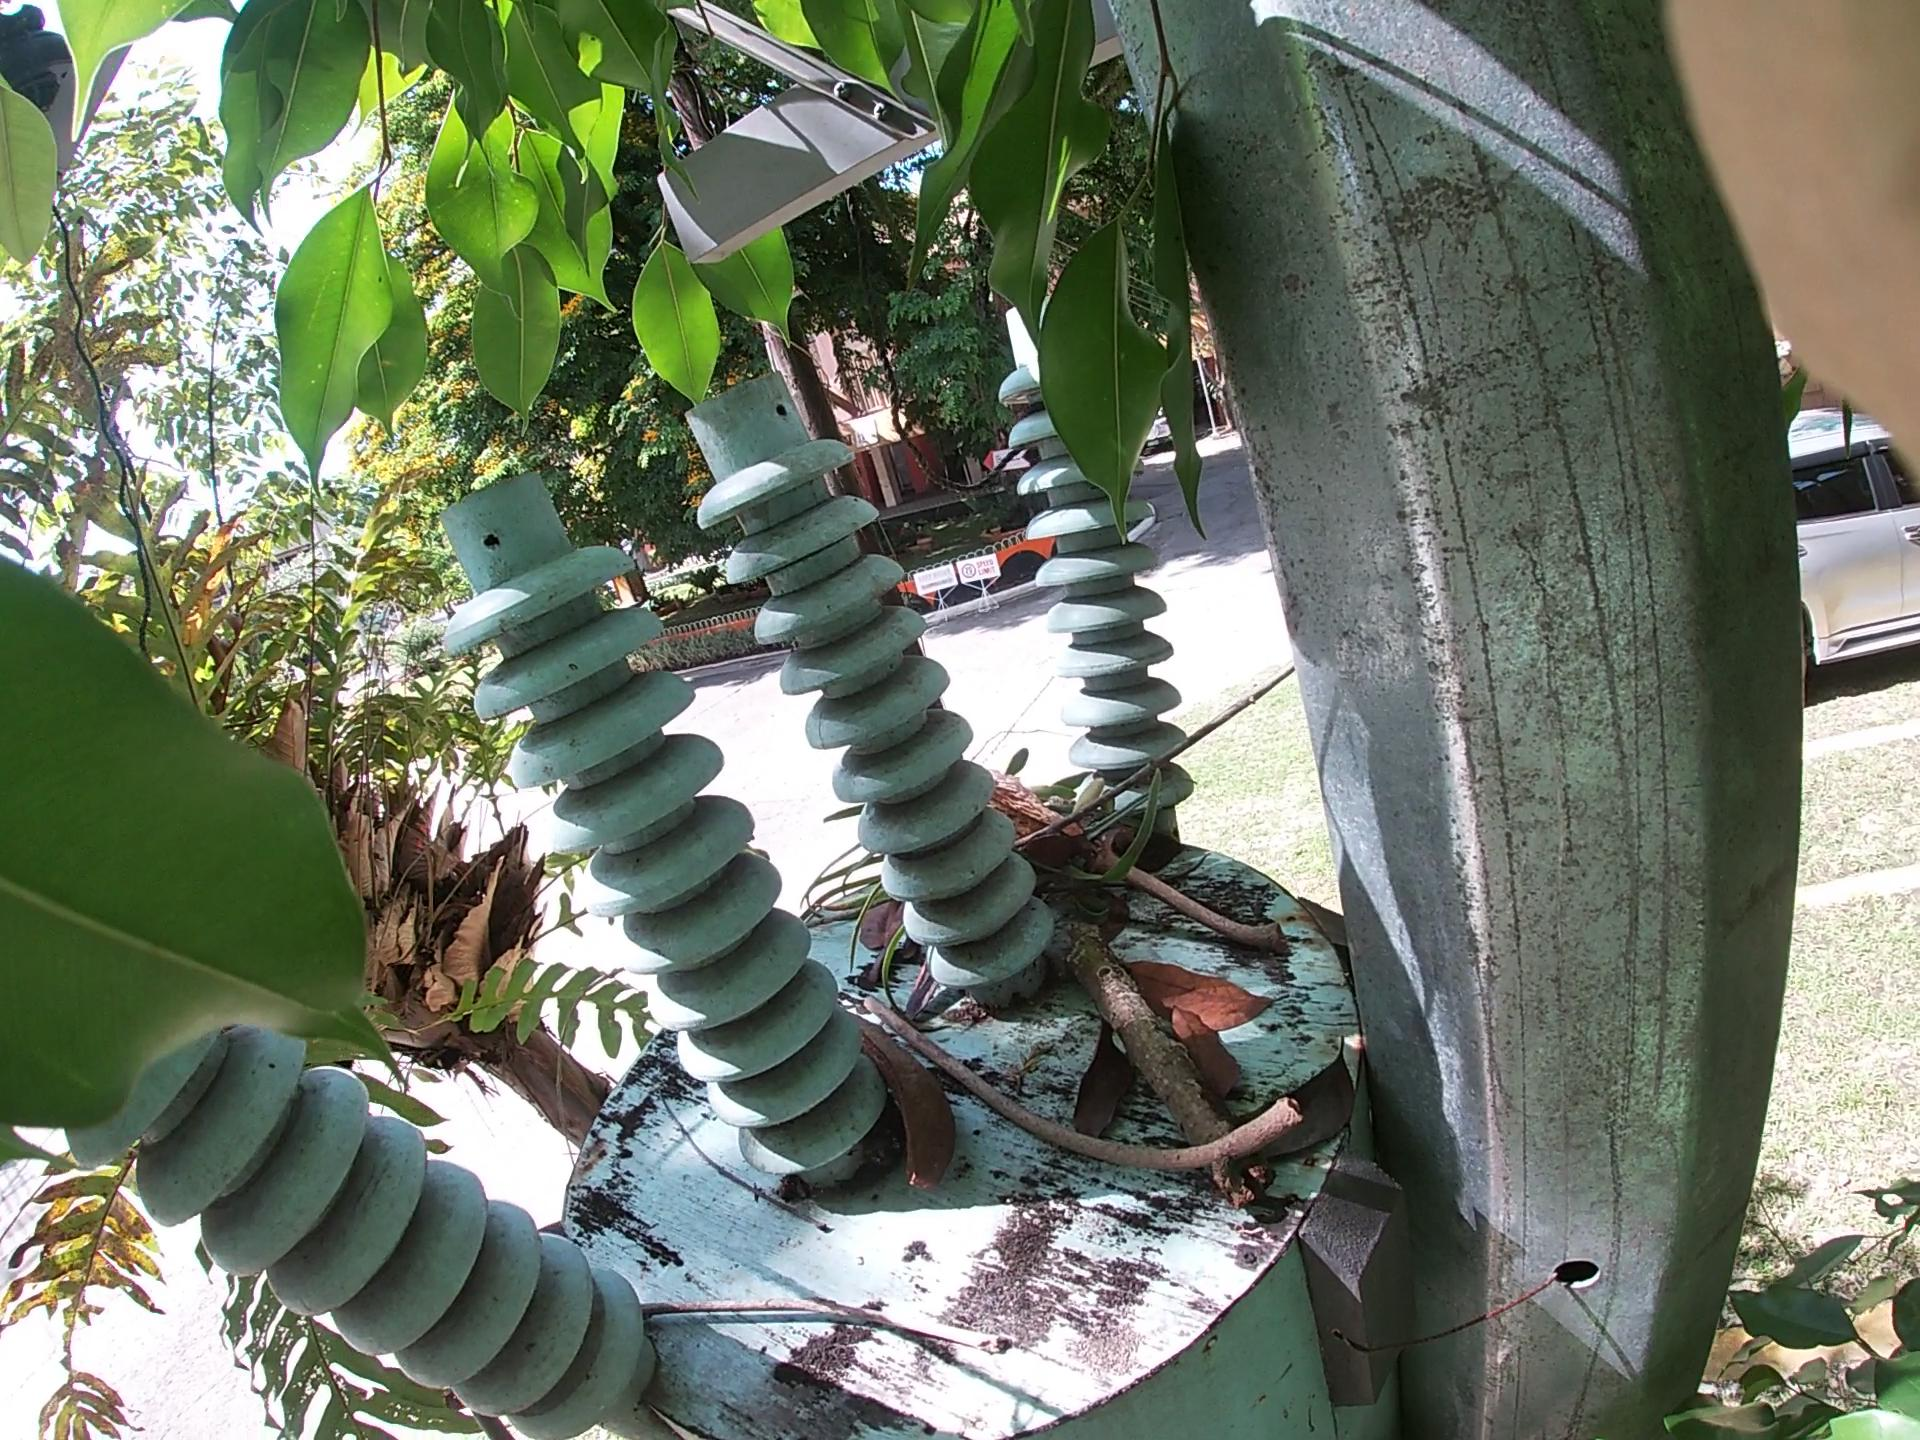branch with leaves: (897, 637, 1305, 1305)
leaf: (1061, 920, 1468, 1317)
tree branch: (980, 617, 1483, 830), (807, 973, 1256, 1190), (599, 1260, 1082, 1379)
